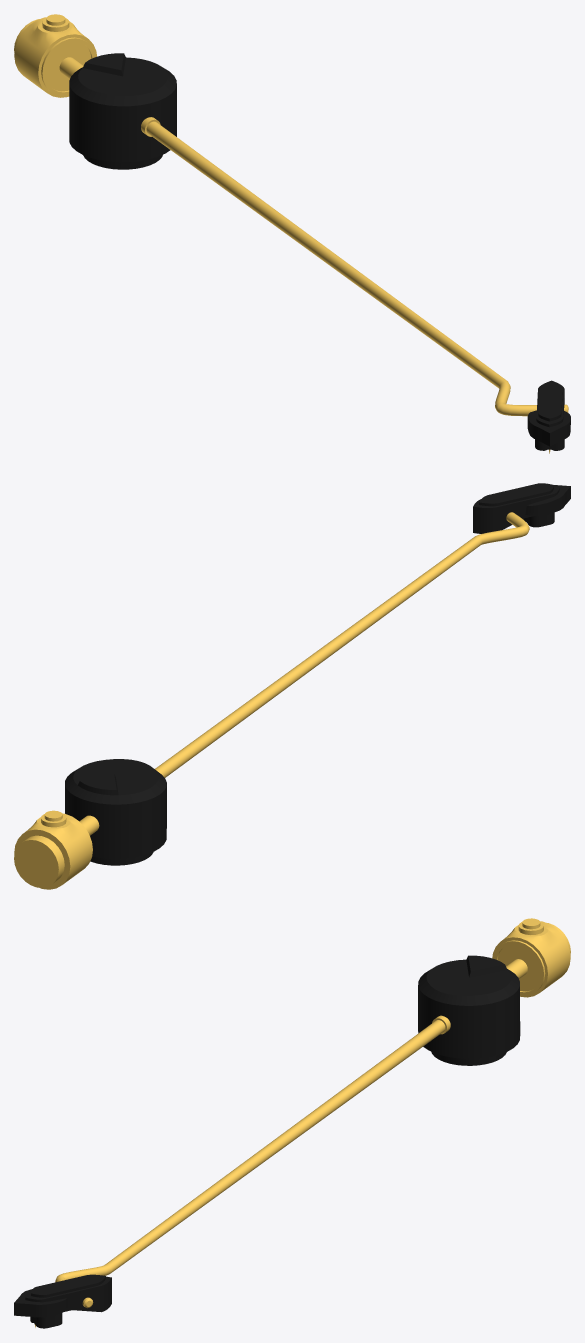
File: GB_Arm_B.glb
3 renders of one model, top to bottom at view 1: azimuth 30°, elevation 25°; view 2: azimuth 150°, elevation 25°; view 3: azimuth 330°, elevation 25°, orthographic. The views are drawn at different scales.
Visible parts, largest first — view 1: GB_Arm_B; view 2: GB_Arm_B; view 3: GB_Arm_B.
Boxes of the visible parts, <box> form: GB_Arm_B: <box>14,14,570,453</box>; GB_Arm_B: <box>14,483,570,889</box>; GB_Arm_B: <box>14,918,570,1328</box>.
Size of the model in its own units: 0.0212 by 0.0186 by 0.2114.
